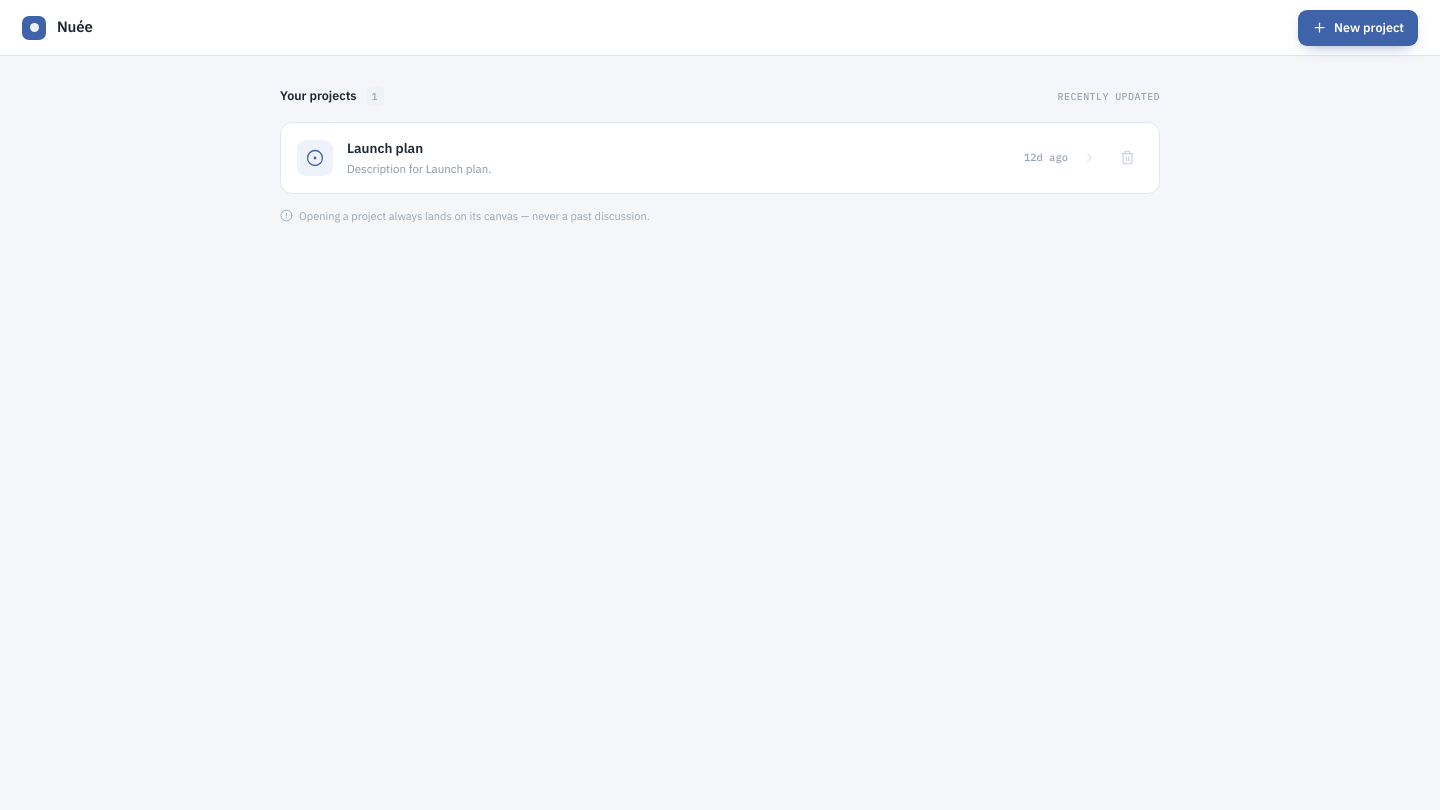
Test case: Project list deletion › leaves the list untouched when the deletion fails
This screenshot has width=1440, height=810.
Check: the text "Launch plan" is shown, box x1=347 y1=139 x2=423 y2=157
Click the button named "Delete Launch plan". click: [1127, 158]
box: x1=1111 y1=142 x2=1143 y2=174
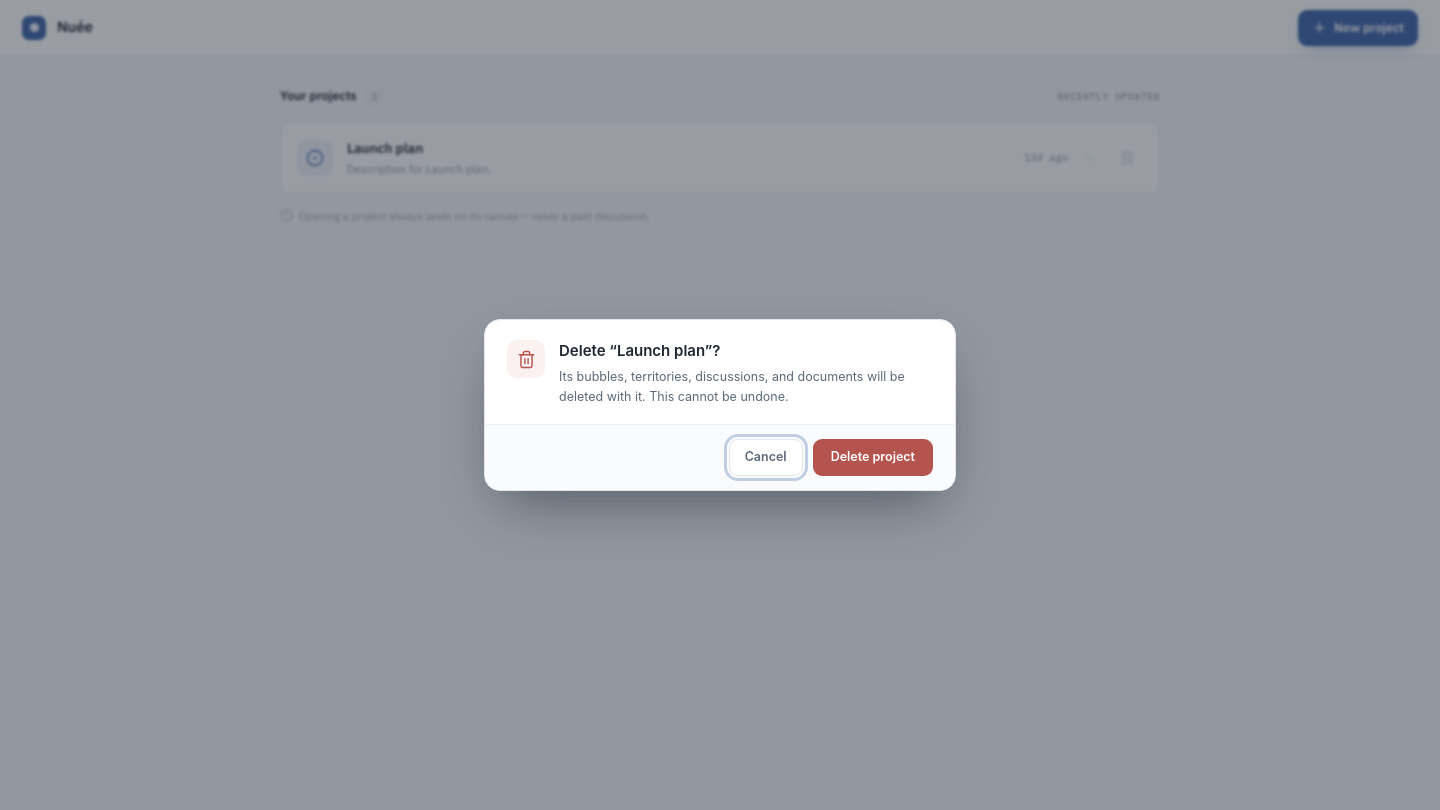
Click the button "Delete project". click: [873, 457]
box: x1=813 y1=439 x2=933 y2=476
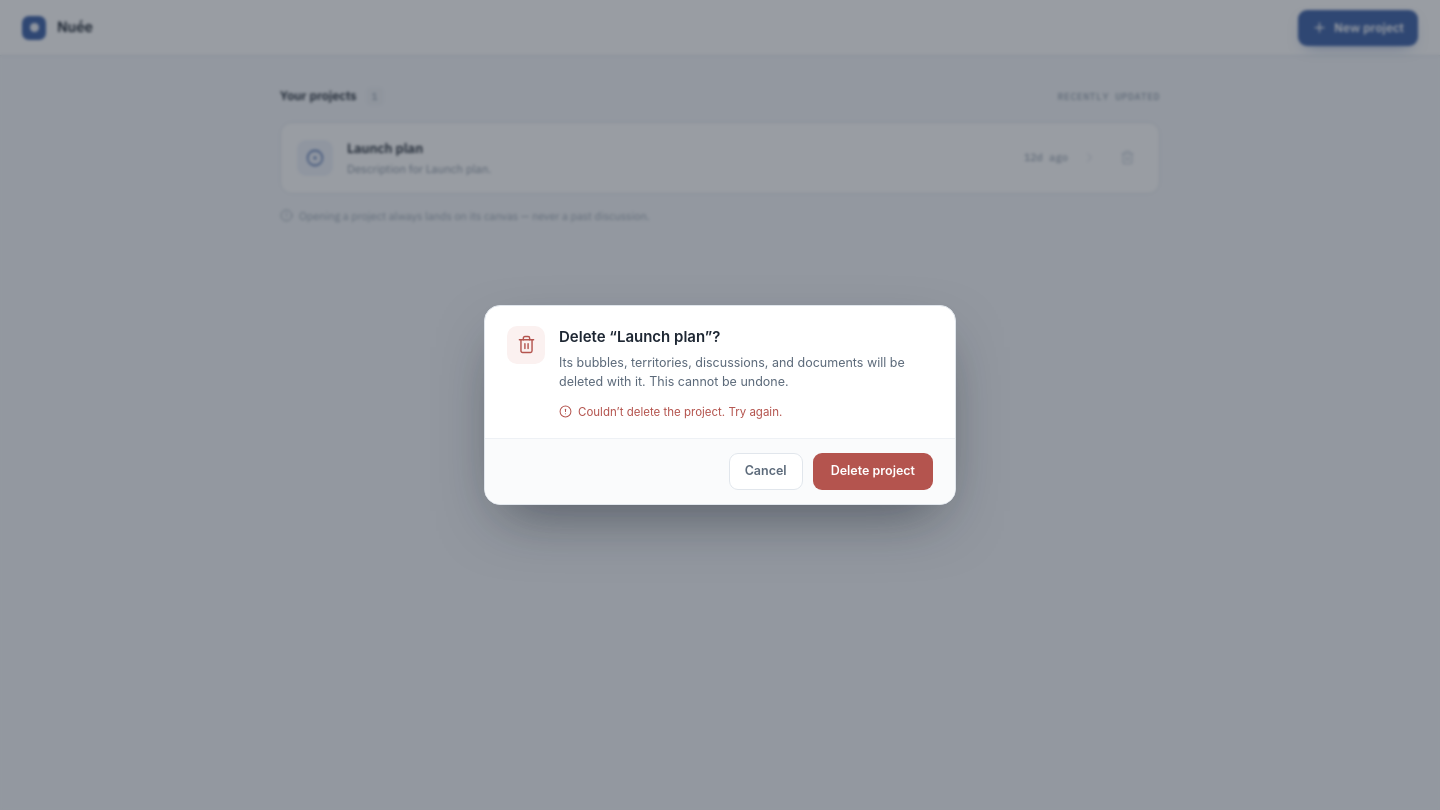
Check: the text "Launch plan" is shown, box x1=347 y1=139 x2=423 y2=157
Check: the text "Couldn’t delete the project. Try again." is shown, box x1=559 y1=405 x2=782 y2=419
